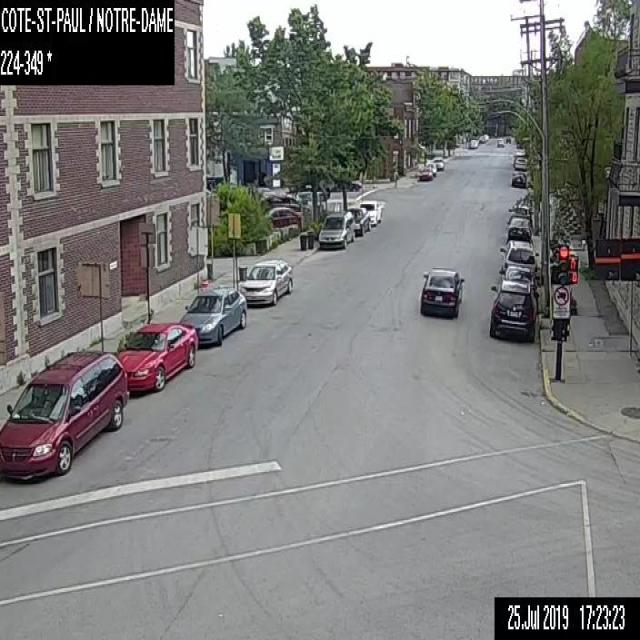pedestrian: (393, 168, 399, 188)
vehicle: (0, 349, 128, 482), (118, 322, 197, 391), (179, 287, 246, 346), (489, 277, 538, 341), (238, 258, 293, 306), (420, 266, 464, 316), (318, 210, 354, 248), (498, 238, 538, 270), (497, 265, 534, 290), (504, 216, 532, 242), (344, 207, 370, 235), (266, 206, 302, 225), (507, 203, 533, 225), (359, 200, 381, 225), (510, 169, 526, 187), (418, 165, 432, 180), (345, 179, 361, 191), (431, 156, 444, 169), (514, 156, 525, 169), (426, 162, 436, 176), (468, 138, 477, 148), (496, 137, 504, 147), (478, 135, 484, 142), (504, 136, 511, 142), (483, 134, 487, 139)
